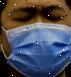with_mask: (1, 1, 71, 77)
